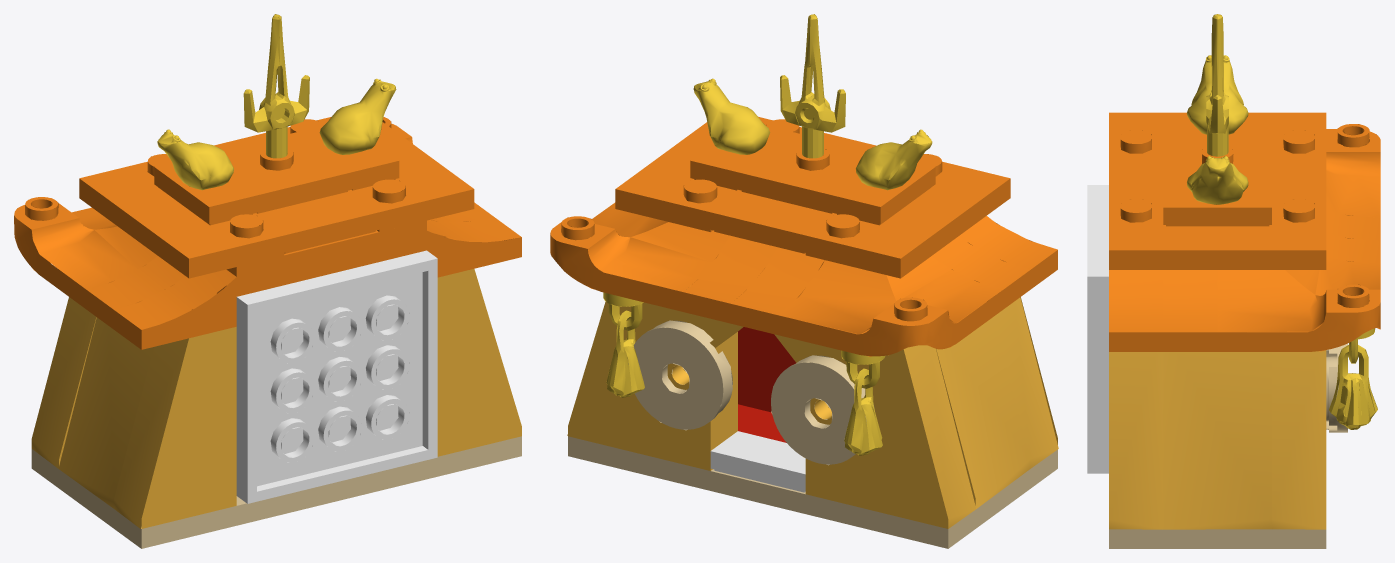
3 renders of one model, left to right at view 1: azimuth 30°, elevation 25°; view 2: azimuth 150°, elevation 25°; view 3: azimuth 270°, elevation 25°, orthographic.
Visible parts, largest first — view 1: 水镜台金色; view 2: 水镜台金色; view 3: 水镜台金色.
Part boxes in pixels (box(x1,y1,x2,y2)): 水镜台金色: box(14, 14, 521, 548); 水镜台金色: box(550, 14, 1058, 548); 水镜台金色: box(1087, 14, 1380, 548).
Bounding box in the file's own units: 161 × 180 × 108.
